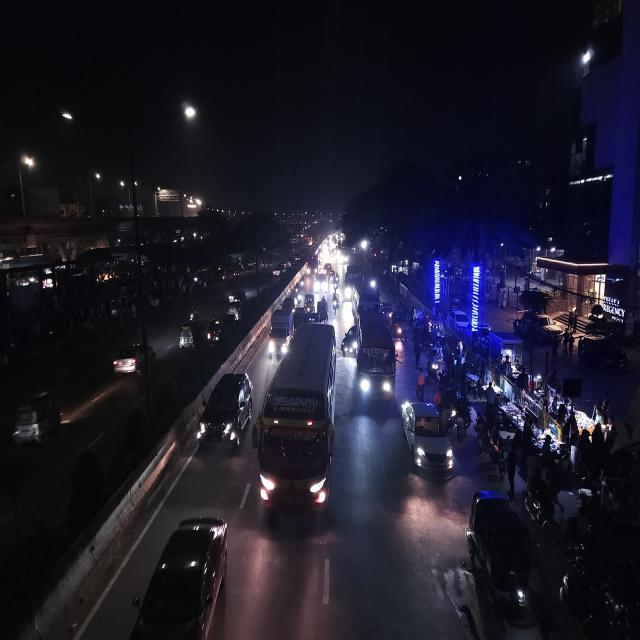bus: (262, 326, 341, 522), (353, 312, 398, 415), (352, 282, 378, 314), (343, 267, 362, 301)
car: (138, 514, 230, 640), (193, 366, 250, 457), (397, 401, 457, 487), (110, 342, 154, 377), (342, 327, 358, 363), (207, 314, 226, 344), (228, 289, 245, 303)
cng: (462, 487, 528, 612), (17, 392, 66, 448), (177, 319, 198, 354), (317, 303, 331, 322), (230, 302, 244, 320), (304, 293, 316, 312)
motorcycle: (331, 295, 340, 315), (332, 280, 339, 293), (300, 277, 305, 290)
pedestrian: (416, 365, 427, 400)
truck: (264, 308, 298, 358), (306, 254, 318, 280)
